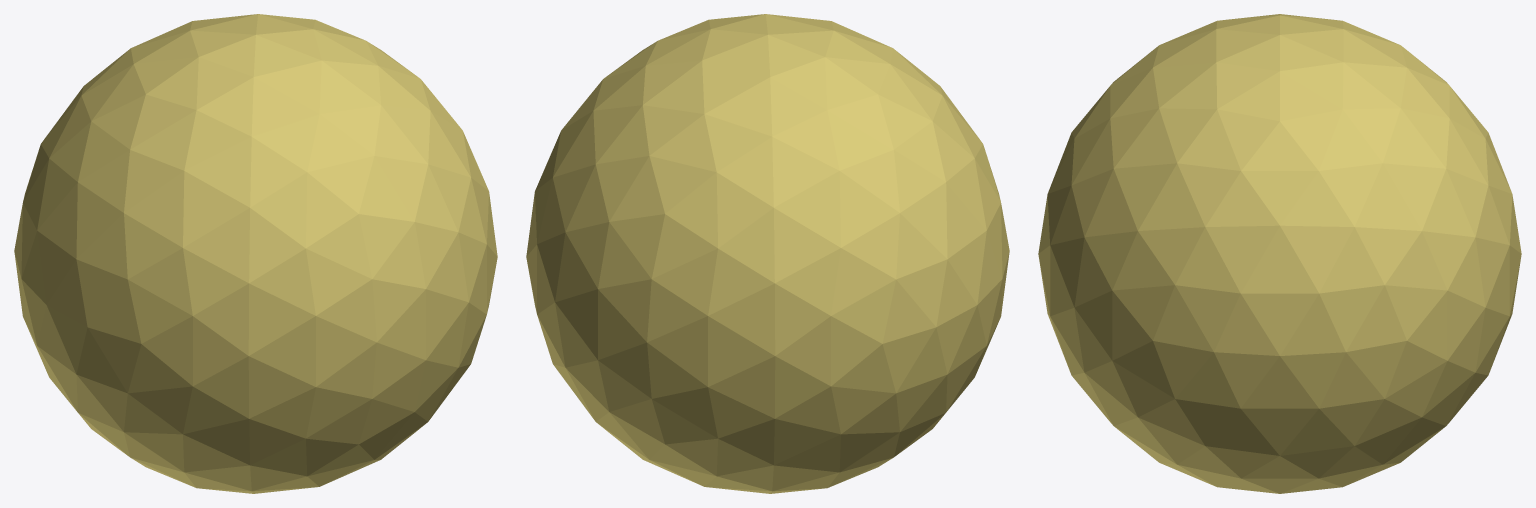
The model's file is bitcoin-collectible-orb.glb.
The picture shows the model from 3 angles, left to right: view 1: azimuth 30°, elevation 25°; view 2: azimuth 150°, elevation 25°; view 3: azimuth 270°, elevation 25°; orthographic projection.
Parts seen in each view (by area): view 1: world; view 2: world; view 3: world.
Boxes of the visible parts, bbox=[...] form: world: bbox=[14, 14, 497, 493]; world: bbox=[526, 14, 1009, 493]; world: bbox=[1038, 14, 1521, 493].
Bounding box in the file's own units: 1 × 1 × 1.
